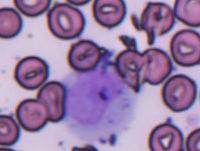M: (64, 66, 134, 132)
